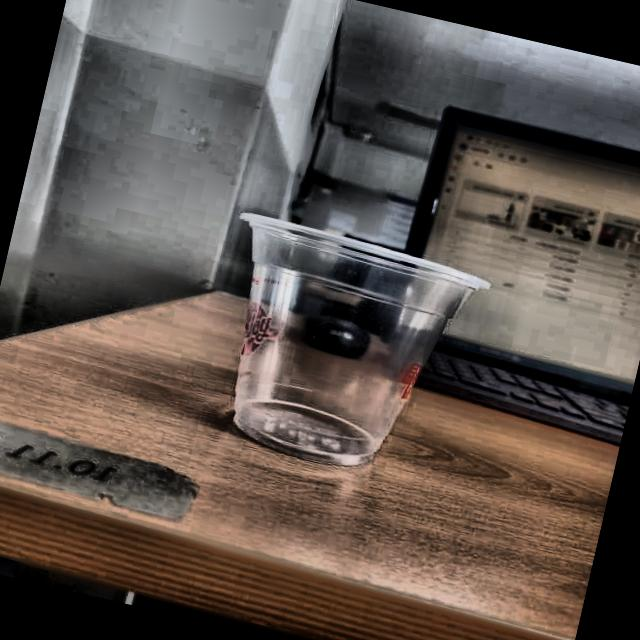plastic cup: (187, 208, 498, 492)
